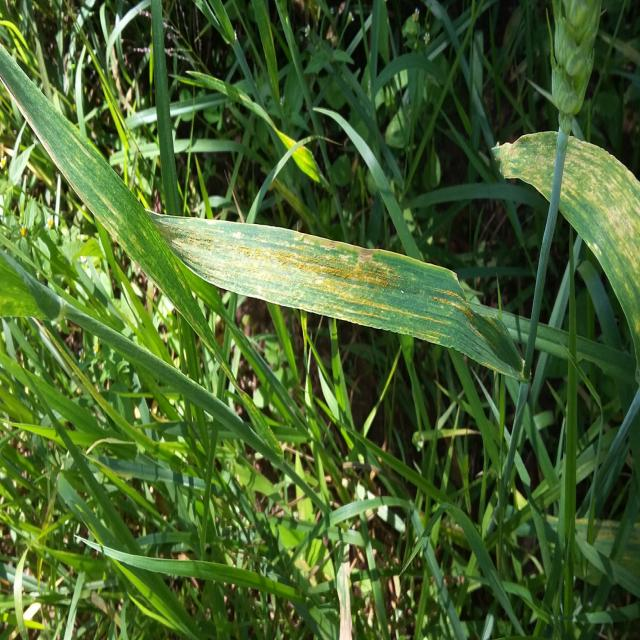wheat-yellowrust: (0, 43, 222, 361), (151, 216, 532, 383), (499, 135, 640, 389)
